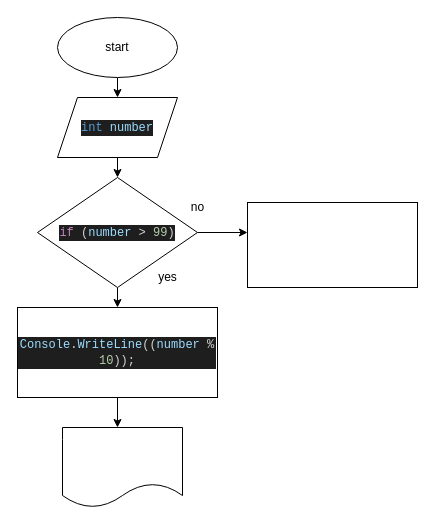
This 435x525 diagram has some shape labels left out. The shapes that lost their labels are listed below. From the top down, each one's centre as x and y in pixels, then its label:
point 332,245: number = number / 10 ; Console . Write ( "третьей цифры нет" );
point 122,467: number
